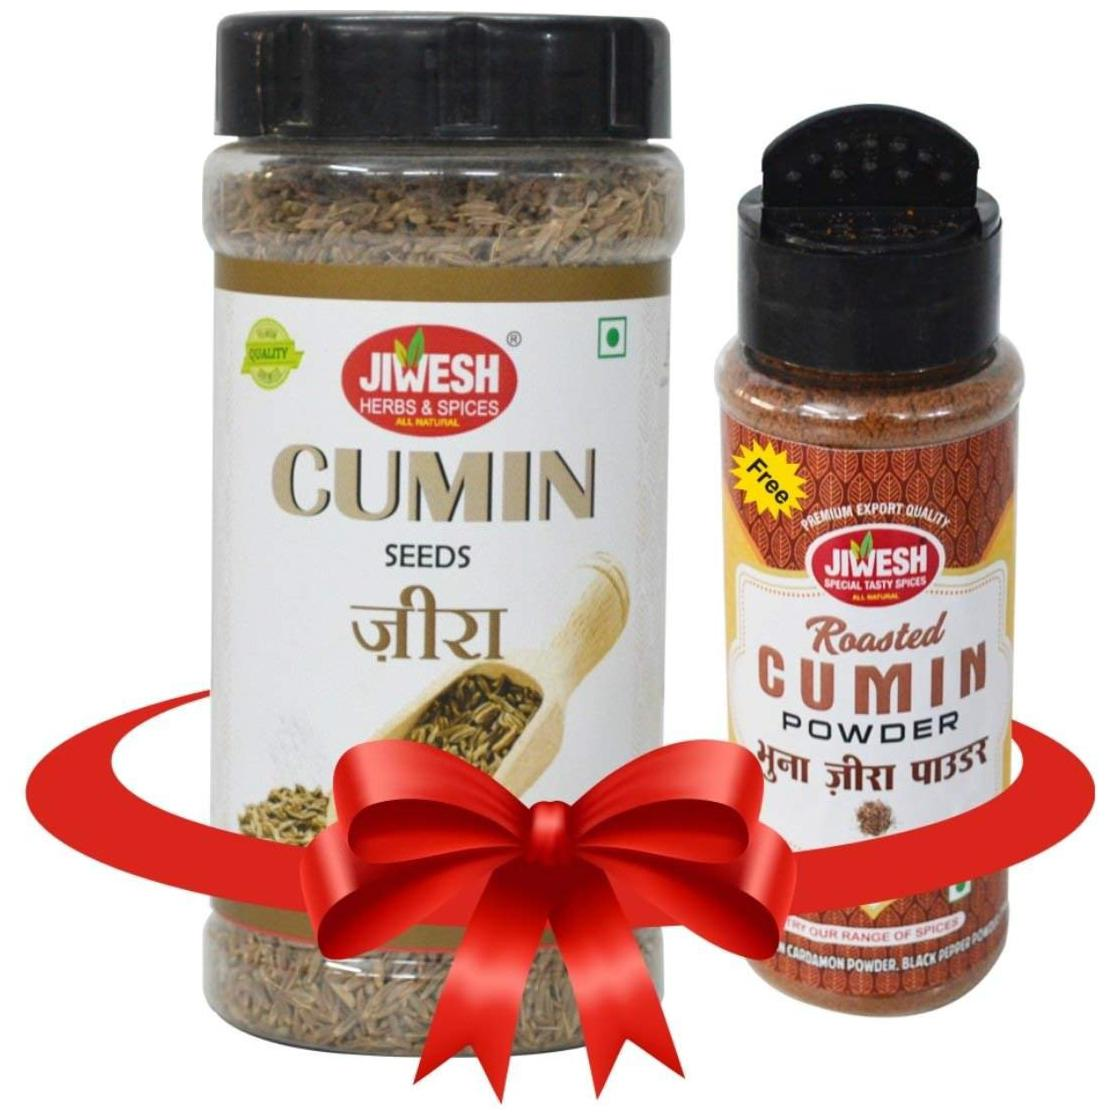JAR: (195, 3, 695, 1071)
